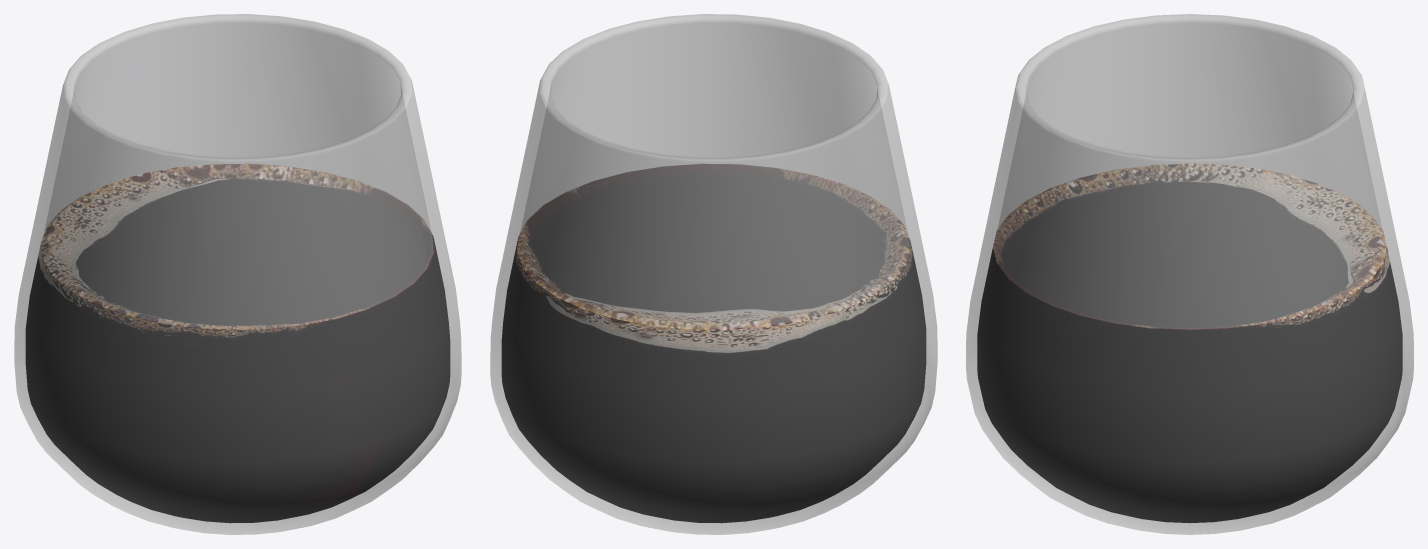
The model's file is vietdrip.gltf.
3 renders of one model, left to right at view 1: azimuth 30°, elevation 25°; view 2: azimuth 150°, elevation 25°; view 3: azimuth 270°, elevation 25°, orthographic.
Parts seen in each view (by area): view 1: Circle, Circle.001; view 2: Circle, Circle.001; view 3: Circle, Circle.001.
Boxes of the visible parts, left/top/right/bottom form: Circle: left=14, top=14, right=461, bottom=534; Circle.001: left=25, top=164, right=450, bottom=523; Circle: left=490, top=14, right=937, bottom=534; Circle.001: left=501, top=164, right=926, bottom=523; Circle: left=966, top=14, right=1413, bottom=534; Circle.001: left=977, top=164, right=1402, bottom=522.
Bounding box in the file's own units: 2.63 × 2.59 × 2.63.
2 materials, 1 textured.
